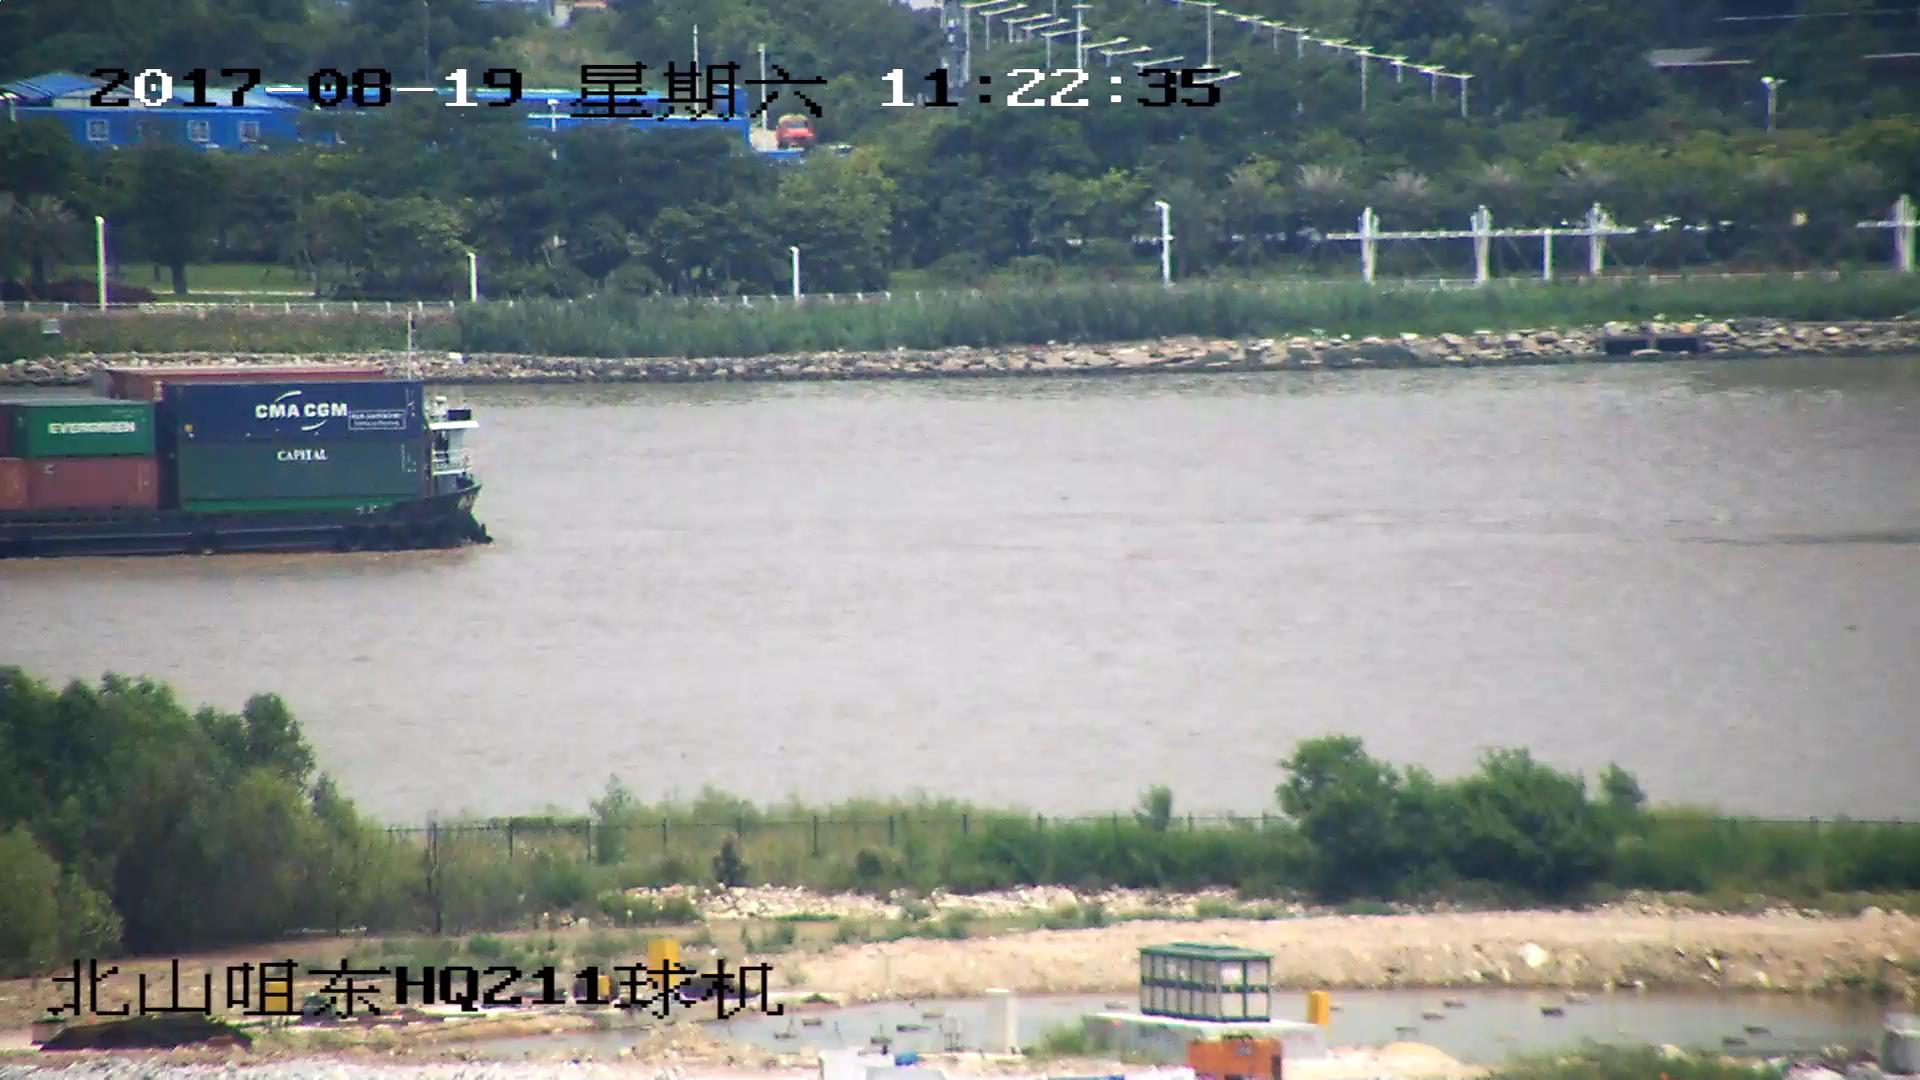container ship: (1, 326, 497, 558)
